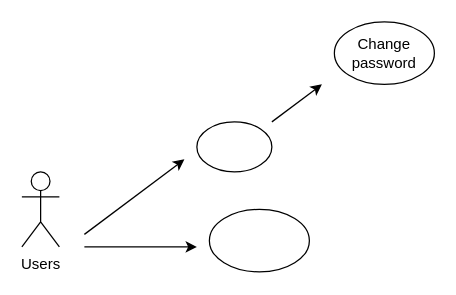
Image size: 456x295. Some labels were removed from this diagram. The centre of each missing label's shape, as x and y in pixels:
"Forgot password" belongs at point (258, 240).
"Login" belongs at point (234, 146).
